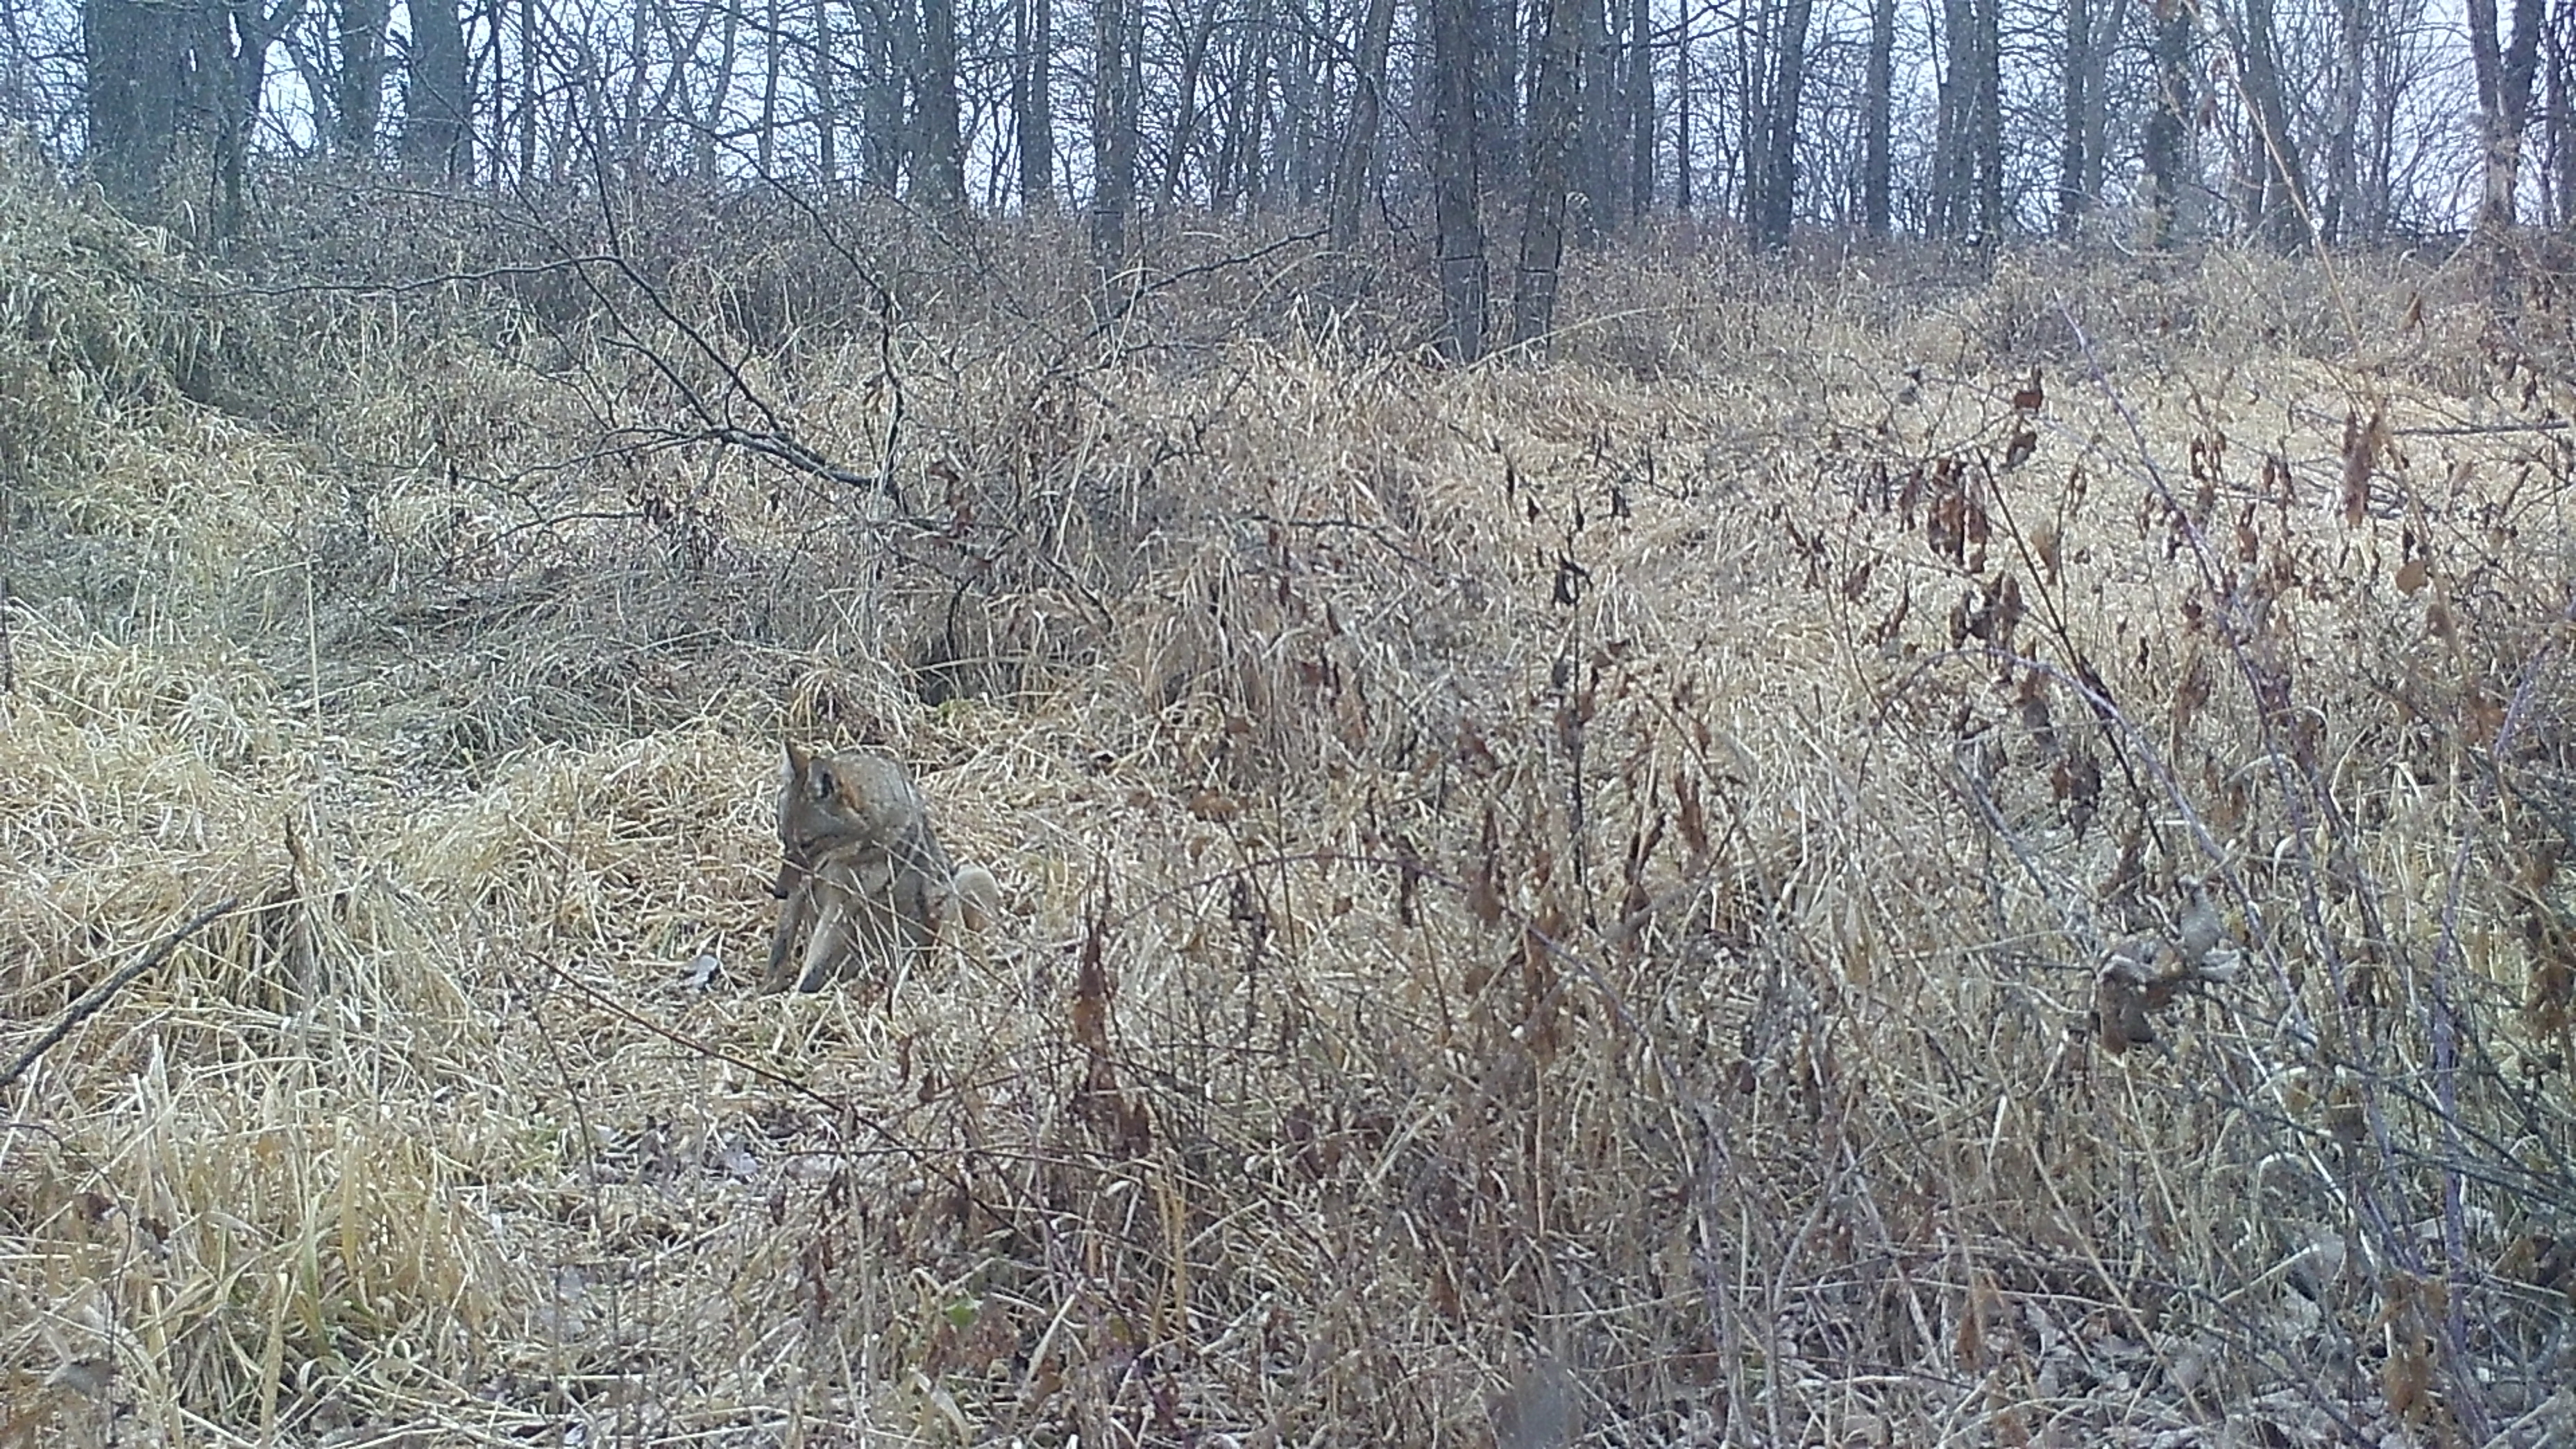Coyote: (763, 734, 989, 989)
